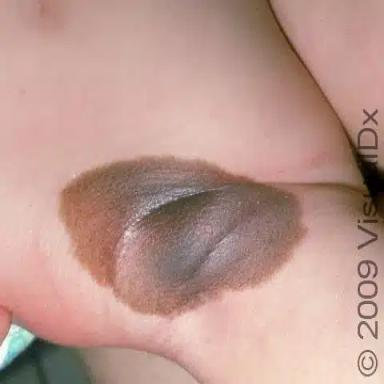nevus: (61, 156, 305, 316)
